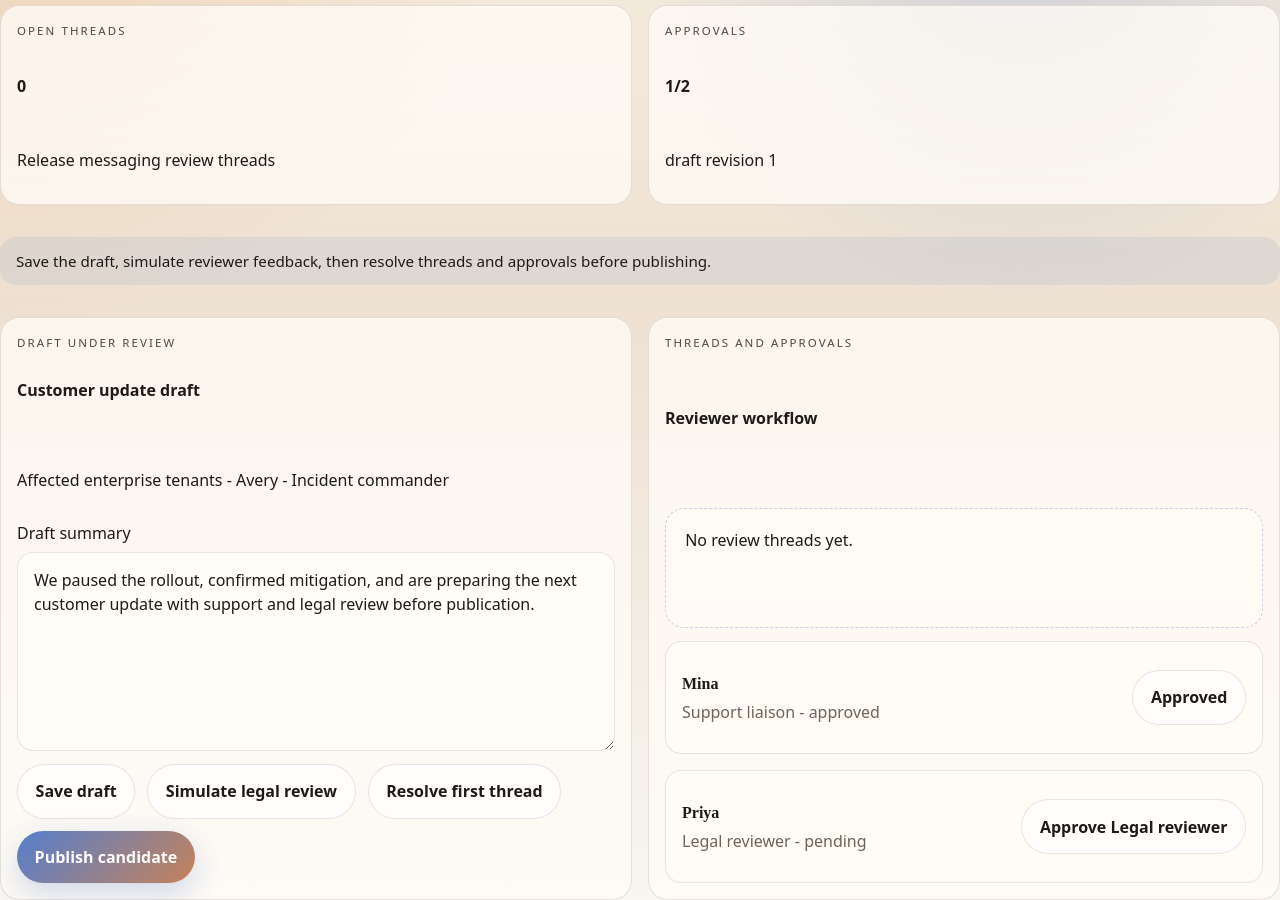
Test: release review threads and approvals › adds a blocking review thread and keeps publish disabled
The image size is (1280, 900).
(page scrolled)
Click the button "Simulate legal review".
click(251, 791)  # box [147,764,356,819]
Wait 220 ms
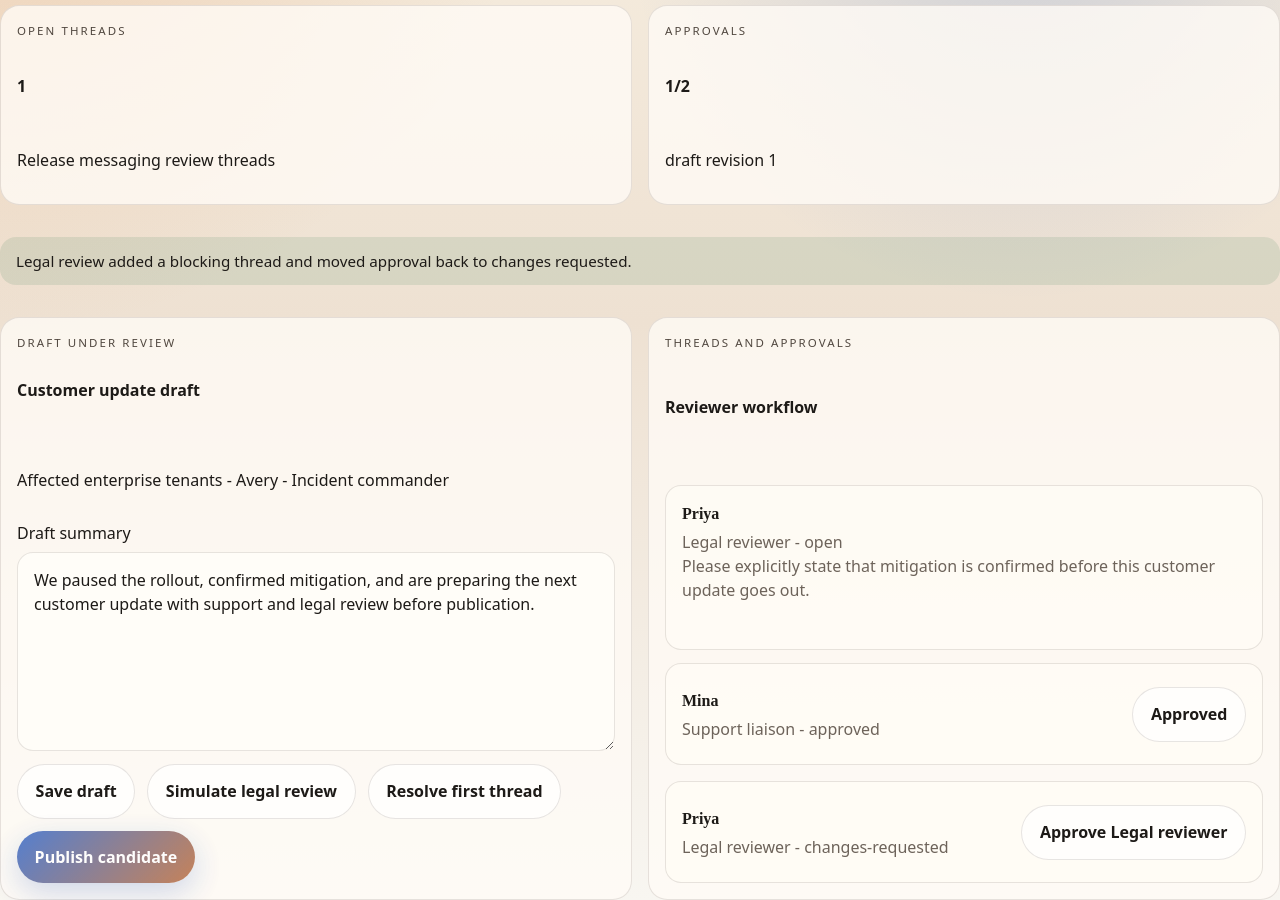
Expected: the button "Publish candidate" is disabled, [17,831,195,884]
Result: the text "Please explicitly state that mitigation is confirmed before this customer update goes out." is shown at [682,555,1215,601]
Result: the text "Legal reviewer - changes-requested" is shown at [682,835,949,859]
